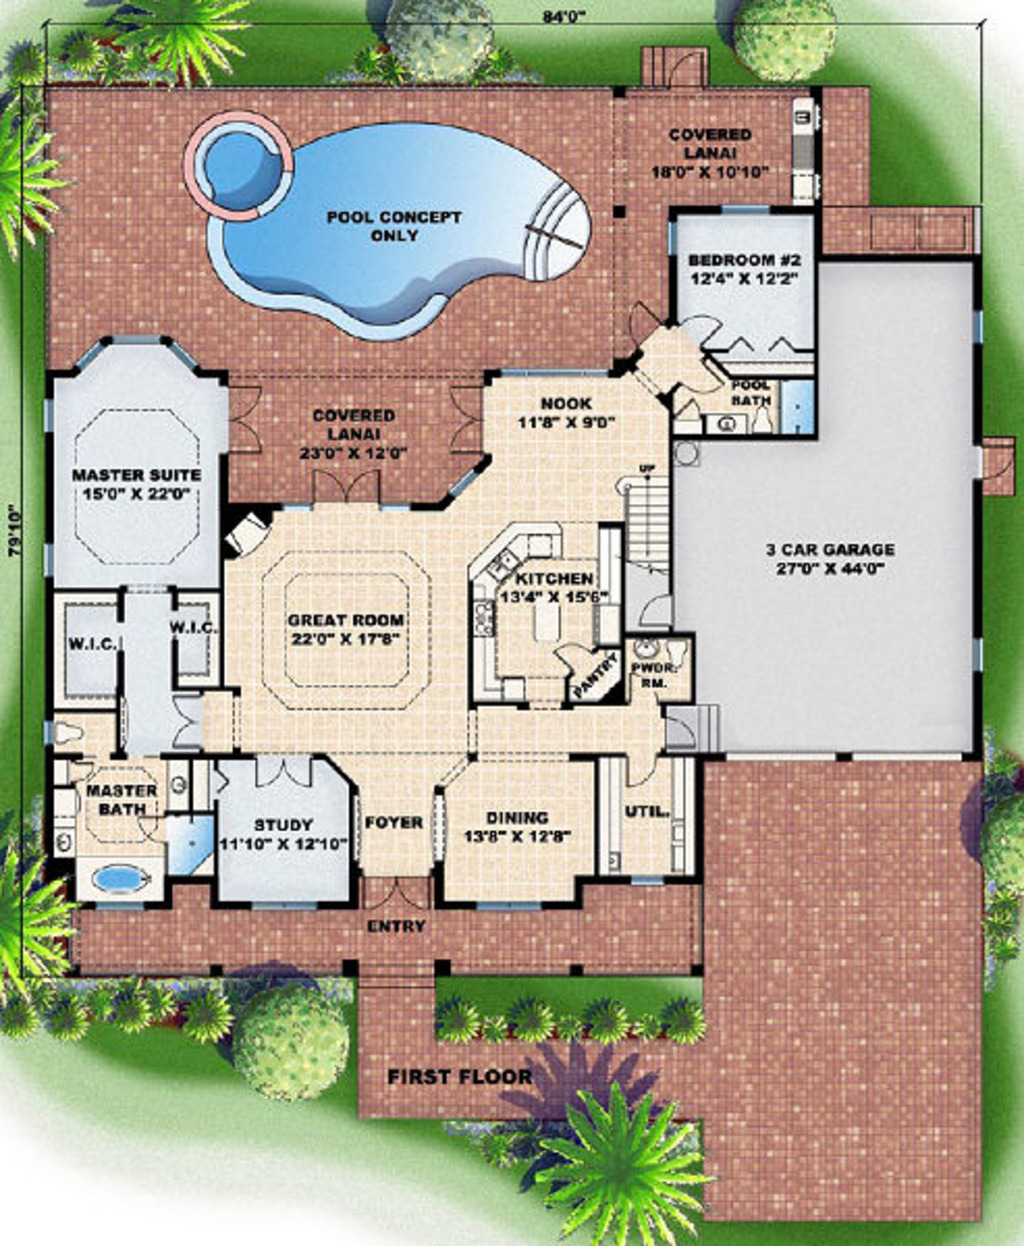door: (211, 381, 264, 461), (312, 462, 386, 515), (360, 874, 435, 923), (165, 682, 202, 754), (252, 749, 312, 792), (551, 635, 599, 678), (676, 306, 719, 352), (627, 294, 660, 349), (654, 711, 697, 750), (679, 365, 722, 395), (622, 753, 657, 787)
large_sink: (51, 712, 85, 750)
stairs: (615, 465, 672, 595)
tub: (77, 857, 165, 908)
